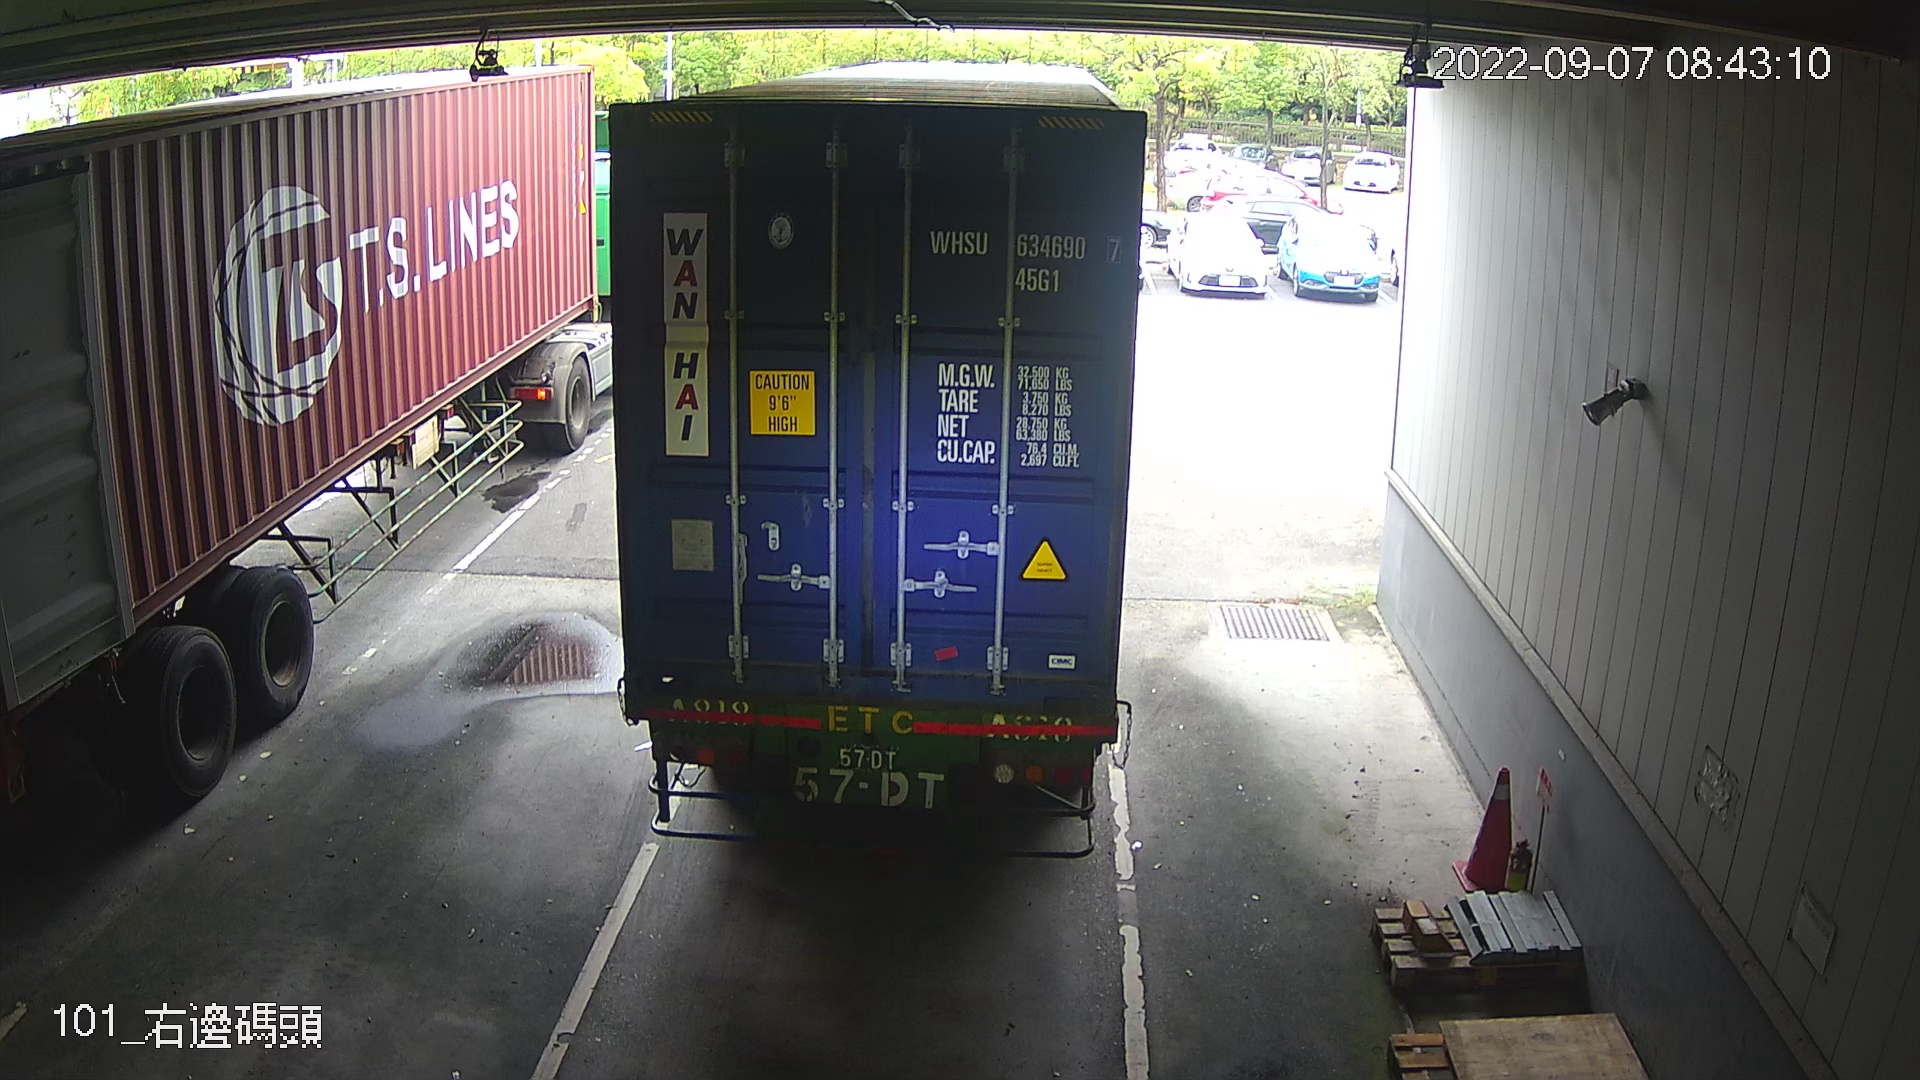container: (916, 222, 1131, 299)
